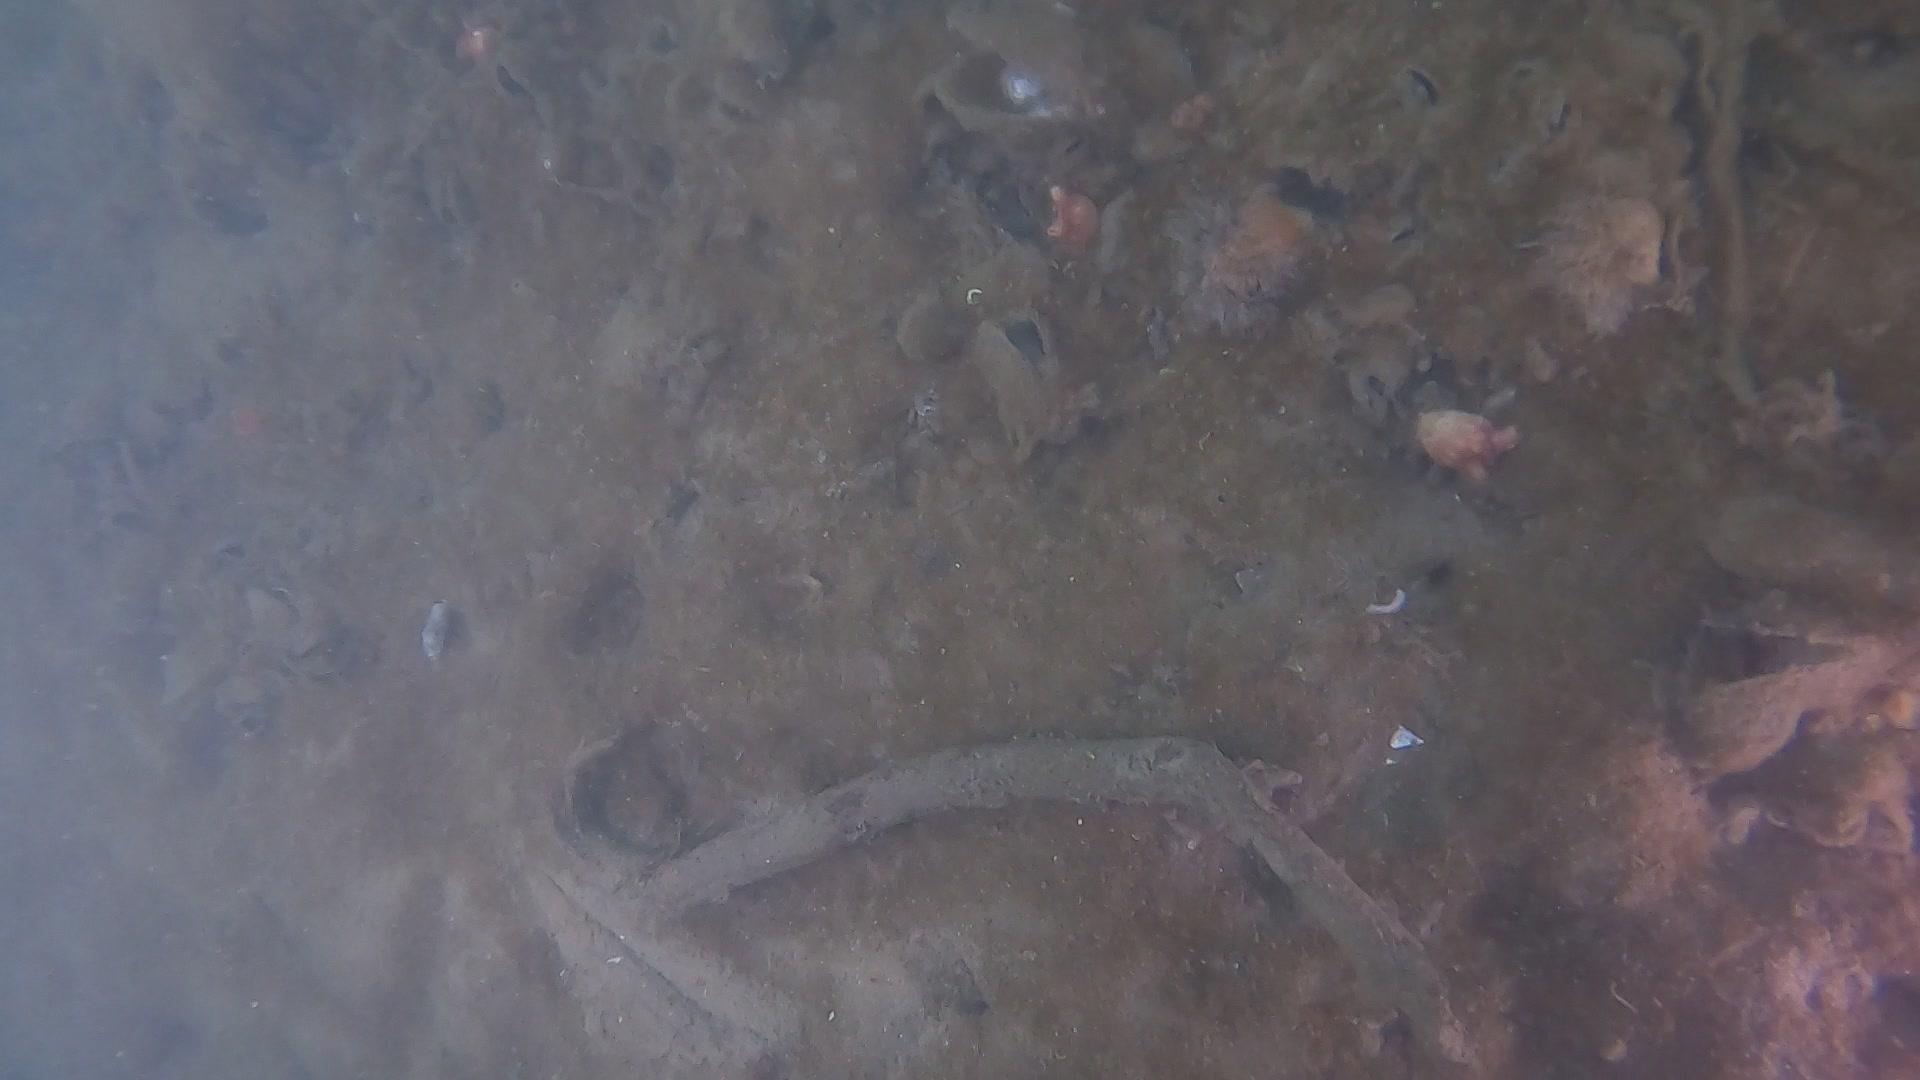wood: (558, 731, 1465, 1080)
